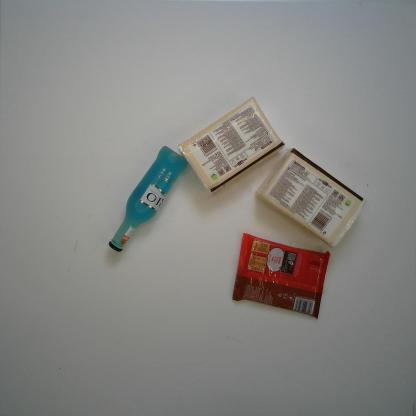Alcohol: (108, 145, 190, 253)
Dessert: (231, 232, 331, 320)
Tissue: (255, 146, 368, 249), (176, 95, 286, 196)
